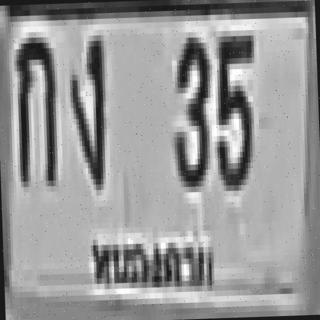A01: (13, 31, 56, 181)
A07: (65, 29, 106, 185)
N03: (168, 32, 211, 182)
N05: (210, 30, 256, 186)
P36: (84, 225, 219, 306)
